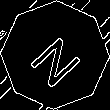N_NE: (23, 23, 87, 87)
